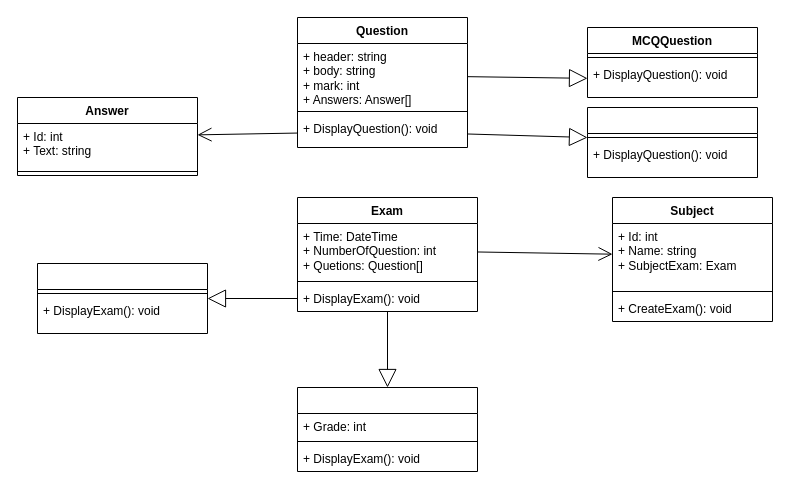
This 790x492 diagram has some shape labels left out. Each missing label, with the box of its shape:
FinalExam: (296, 386, 478, 472)
PracticalExam: (36, 262, 208, 334)
TorFQuestion: (586, 106, 758, 178)
